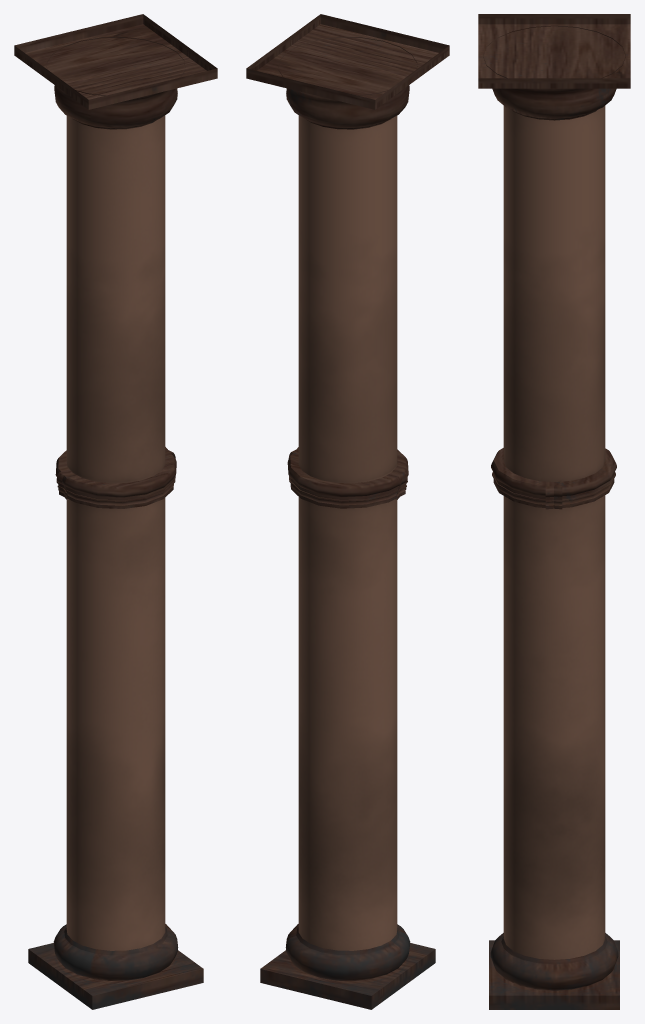
File: Mod_Pillar_A.fbx
3 renders of one model, left to right at view 1: azimuth 30°, elevation 25°; view 2: azimuth 150°, elevation 25°; view 3: azimuth 270°, elevation 25°, orthographic. The views are drawn at different scales.
Parts seen in each view (by area): view 1: Mod_Pillar_A_Low; view 2: Mod_Pillar_A_Low; view 3: Mod_Pillar_A_Low.
Boxes of the visible parts, left/top/right/bottom form: Mod_Pillar_A_Low: left=14, top=14, right=217, bottom=1009; Mod_Pillar_A_Low: left=246, top=14, right=449, bottom=1009; Mod_Pillar_A_Low: left=478, top=14, right=630, bottom=1009.
Bounding box in the file's own units: 161 × 1094 × 161.
Materials: 1 (1 with a texture image).
